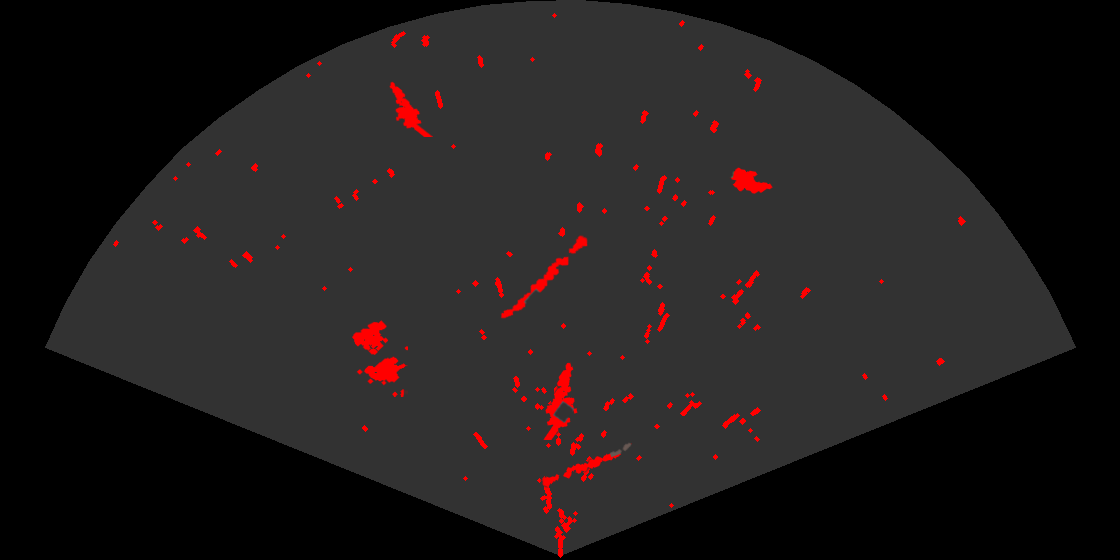AUV: (729, 166, 774, 195)
cage: (351, 319, 408, 397)
chain: (499, 234, 589, 320), (540, 442, 633, 488)
frogman: (542, 361, 579, 440), (388, 80, 433, 137)
